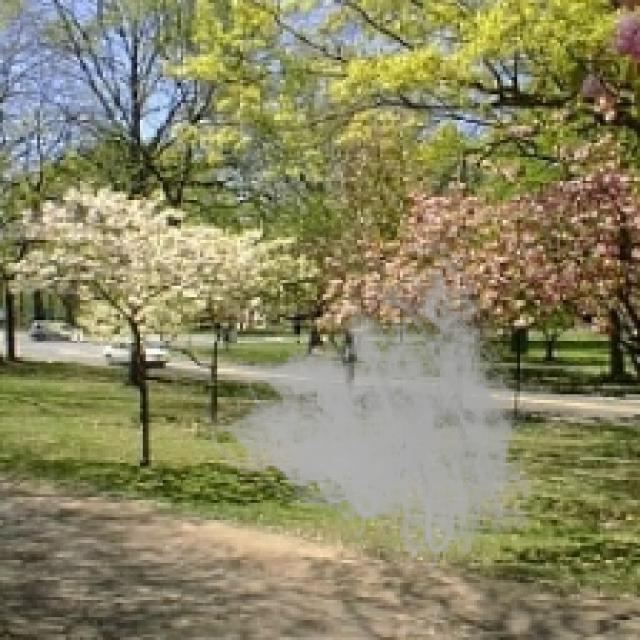smoke: (200, 234, 551, 586)
